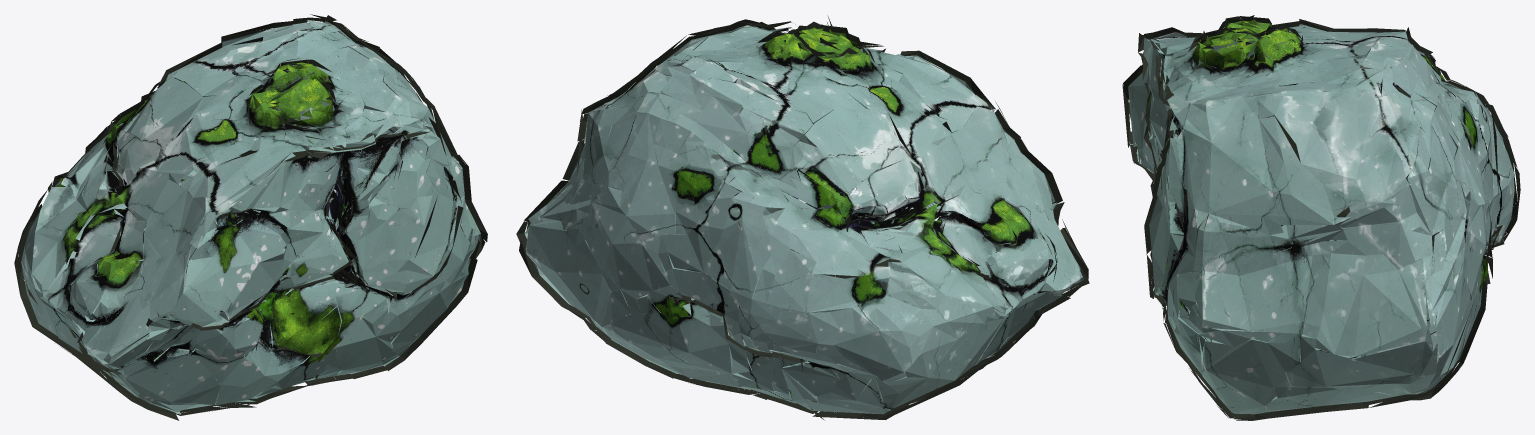
The model's file is df_v2_rock_blocker_b_a.glb.
3 views of the same model, side by side, from view 1: azimuth 30°, elevation 25°; view 2: azimuth 150°, elevation 25°; view 3: azimuth 270°, elevation 25° (orthographic). The views are drawn at different scales.
Parts seen in each view (by area): view 1: rock_blocker_b_mesh_01, rock_blocker_b_mesh_01_ink_outline; view 2: rock_blocker_b_mesh_01, rock_blocker_b_mesh_01_ink_outline; view 3: rock_blocker_b_mesh_01, rock_blocker_b_mesh_01_ink_outline.
Boxes of the visible parts, x1=… form: rock_blocker_b_mesh_01: x1=21, y1=20, x2=480, y2=414; rock_blocker_b_mesh_01_ink_outline: x1=14, y1=14, x2=487, y2=420; rock_blocker_b_mesh_01: x1=524, y1=22, x2=1084, y2=414; rock_blocker_b_mesh_01_ink_outline: x1=516, y1=15, x2=1089, y2=420; rock_blocker_b_mesh_01: x1=1128, y1=19, x2=1514, y2=414; rock_blocker_b_mesh_01_ink_outline: x1=1122, y1=15, x2=1520, y2=420.
Size of the model in its own units: 0.8841 by 0.6168 by 0.6127.
2 materials, 1 textured.
